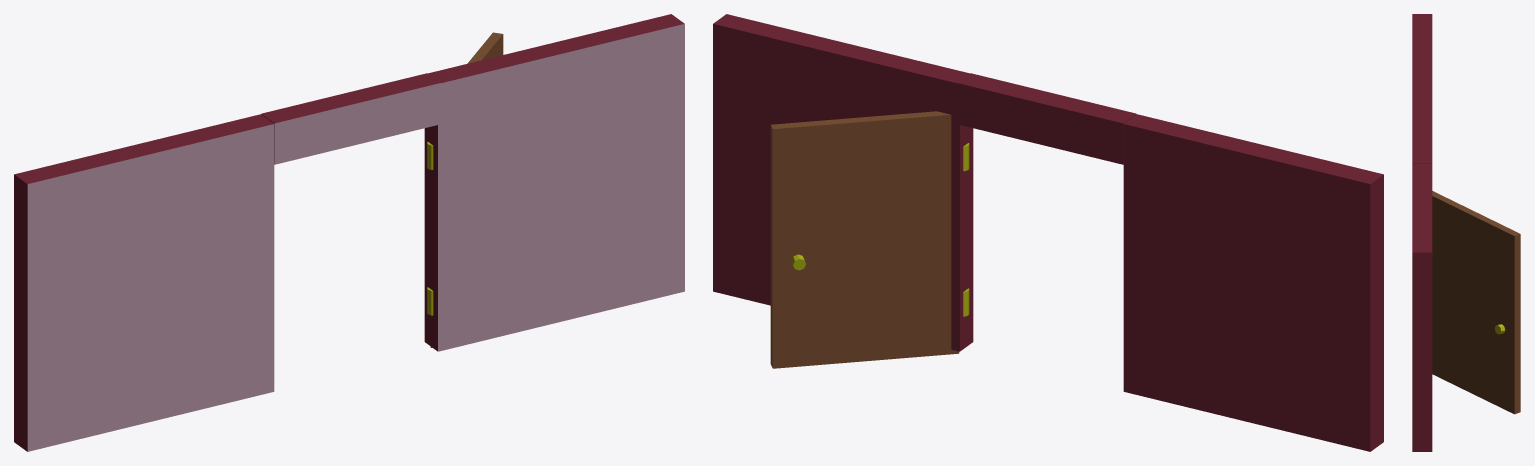
File: WallDoor.glb
3 renders of one model, left to right at view 1: azimuth 30°, elevation 25°; view 2: azimuth 150°, elevation 25°; view 3: azimuth 270°, elevation 25°, orthographic. The views are drawn at different scales.
Parts seen in each view (by area): view 1: Cube, Cube.001, Cube.002, Дверь; view 2: Cube, Дверь, Cube.001, Cube.002; view 3: Дверь, Cube.001, Cube, Cube.002.
Part boxes in pixels (bbox=[...]): Cube: bbox=[14, 114, 274, 451]; Cube.001: bbox=[424, 14, 684, 351]; Cube.002: bbox=[261, 73, 440, 164]; Дверь: bbox=[427, 32, 503, 347]; Cube: bbox=[1123, 114, 1383, 451]; Дверь: bbox=[770, 111, 969, 368]; Cube.001: bbox=[713, 14, 973, 351]; Cube.002: bbox=[957, 73, 1136, 164]; Дверь: bbox=[1432, 191, 1520, 414]; Cube.001: bbox=[1412, 164, 1432, 451]; Cube: bbox=[1412, 14, 1432, 103]; Cube.002: bbox=[1412, 103, 1432, 163].
Bounding box in the file's own units: 8 × 3.17 × 1.53.
